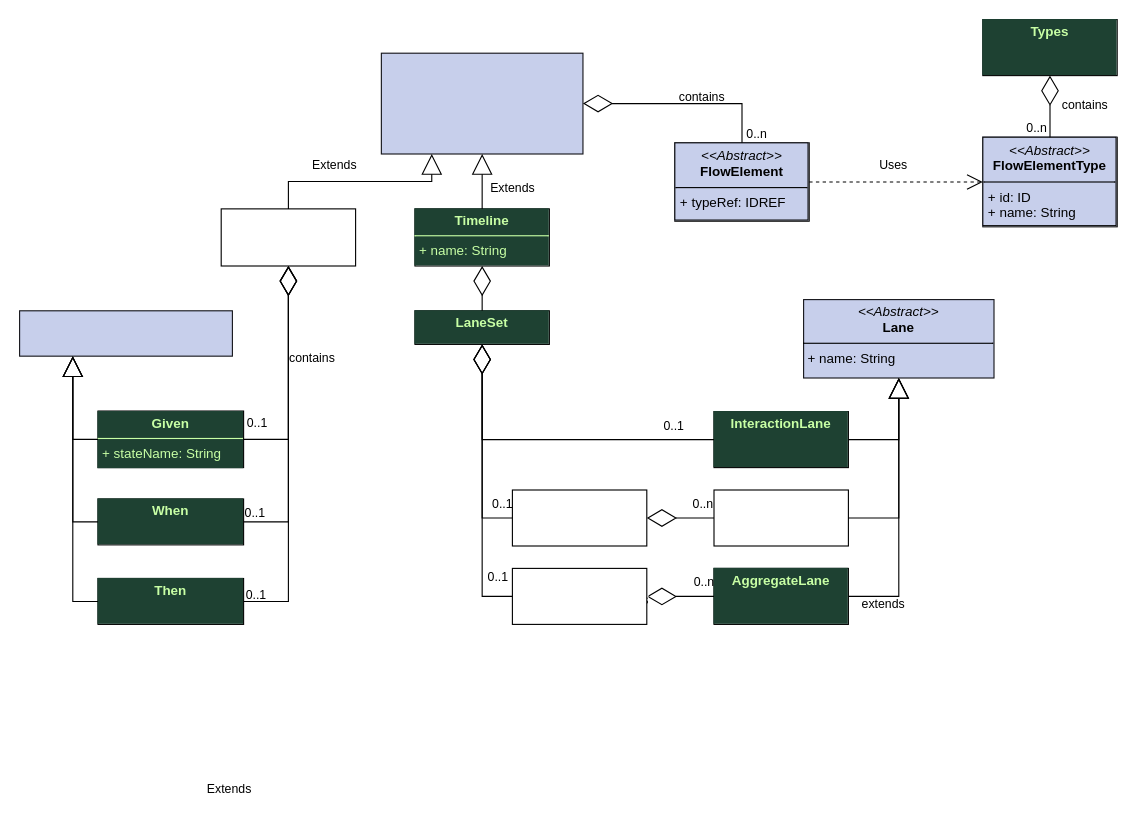
This 1137x815 diagram has some shape labels left out. The shapes that lost their labels are listed below. From the top down, each one's centre as x and y in pixels, then its label:
At (481,103): "<<Abstract>> FlowElementContainer + id: ID".
At (288,237): "Specification + name: String".
At (125,333): "<<Abstract>> Stage".
At (579,517): "TriggerLaneSet".
At (780,517): "TriggerLane".
At (579,595): "AggregateLaneSet".
